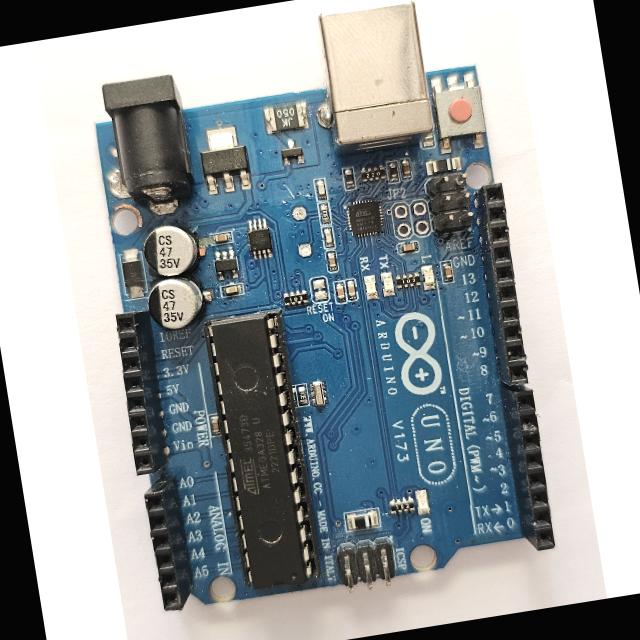missing_crystal_os: (278, 176, 325, 276)
